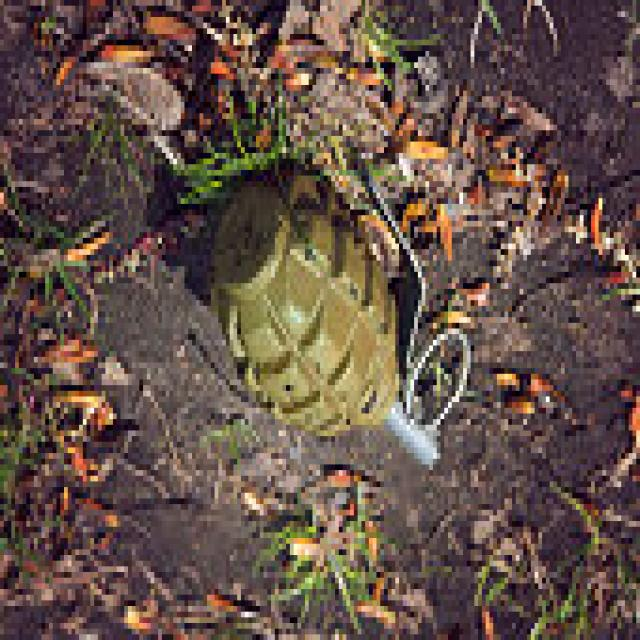grenade: (208, 153, 476, 478)
